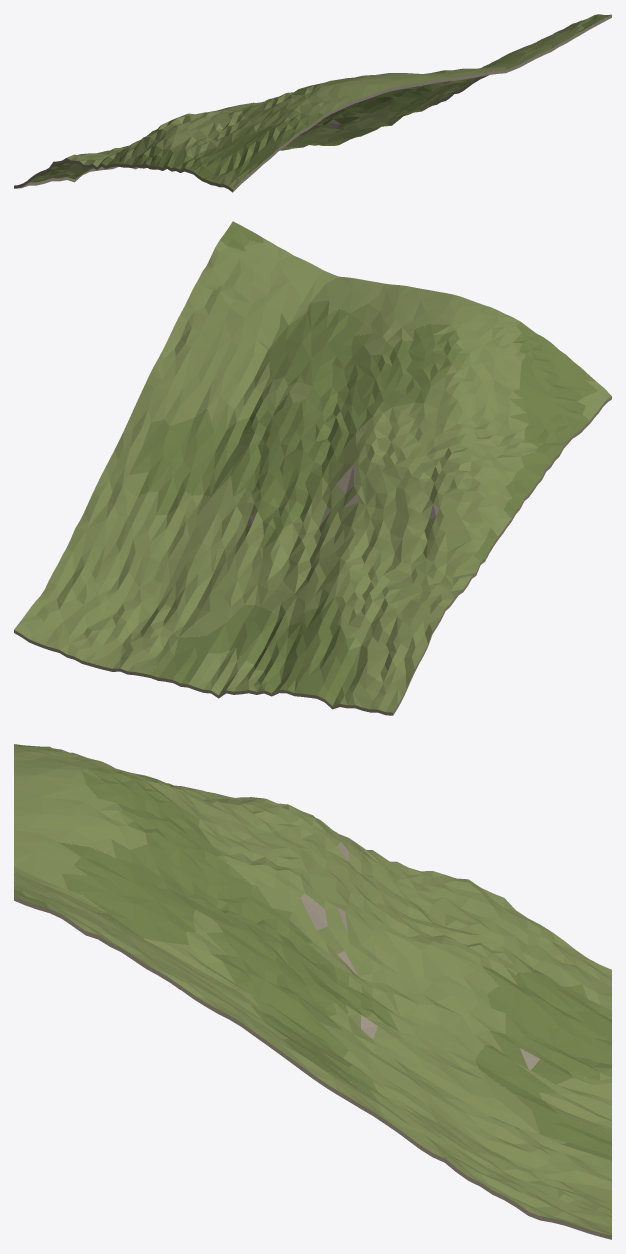
File: parca_+6_-5-uzak.glb
3 views of the same model, one above another, from view 1: azimuth 30°, elevation 25°; view 2: azimuth 150°, elevation 25°; view 3: azimuth 270°, elevation 25° (orthographic). The views are drawn at different scales.
Visible parts, largest first — view 1: parca_+6_-5_arazi_uzak; view 2: parca_+6_-5_arazi_uzak; view 3: parca_+6_-5_arazi_uzak.
Part boxes in pixels (x1=…): parca_+6_-5_arazi_uzak: x1=14, y1=14, x2=611, y2=192; parca_+6_-5_arazi_uzak: x1=14, y1=221, x2=611, y2=715; parca_+6_-5_arazi_uzak: x1=14, y1=744, x2=611, y2=1239.
Bounding box in the file's own units: 1000 × 674 × 1000.
